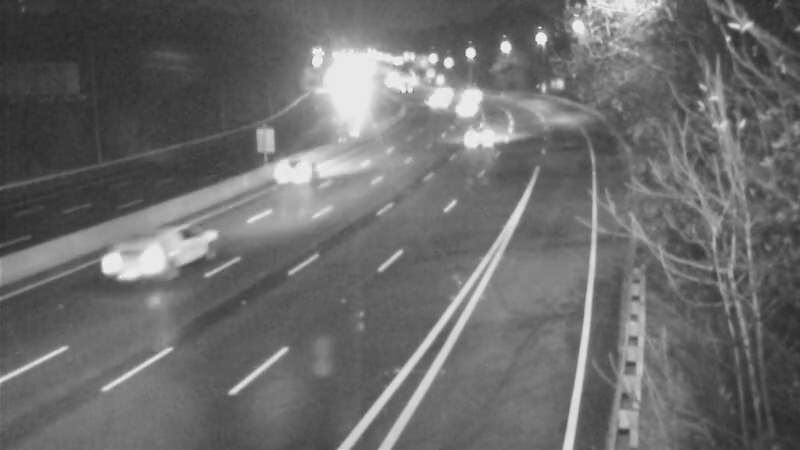vehicle: (255, 136, 335, 216), (100, 218, 180, 298), (456, 111, 506, 161)
